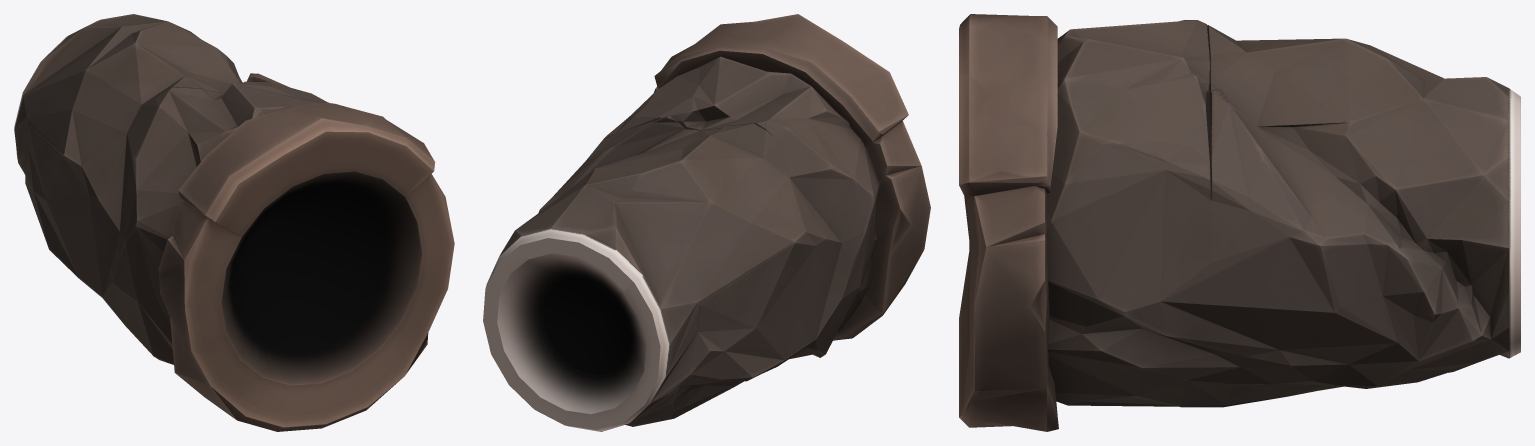
Rendered from Rock Launcher.fbx.
3 views of the same model, side by side, from view 1: azimuth 30°, elevation 25°; view 2: azimuth 150°, elevation 25°; view 3: azimuth 270°, elevation 25° (orthographic). The views are drawn at different scales.
Parts seen in each view (by area): view 1: Rock_Launcher; view 2: Rock_Launcher; view 3: Rock_Launcher.
Boxes of the visible parts, box(x1,y1,x2,y2) form: Rock_Launcher: box(14, 14, 454, 431); Rock_Launcher: box(483, 14, 930, 431); Rock_Launcher: box(959, 14, 1520, 431).
Bounding box in the file's own units: 19.42 × 20.95 × 27.78.
